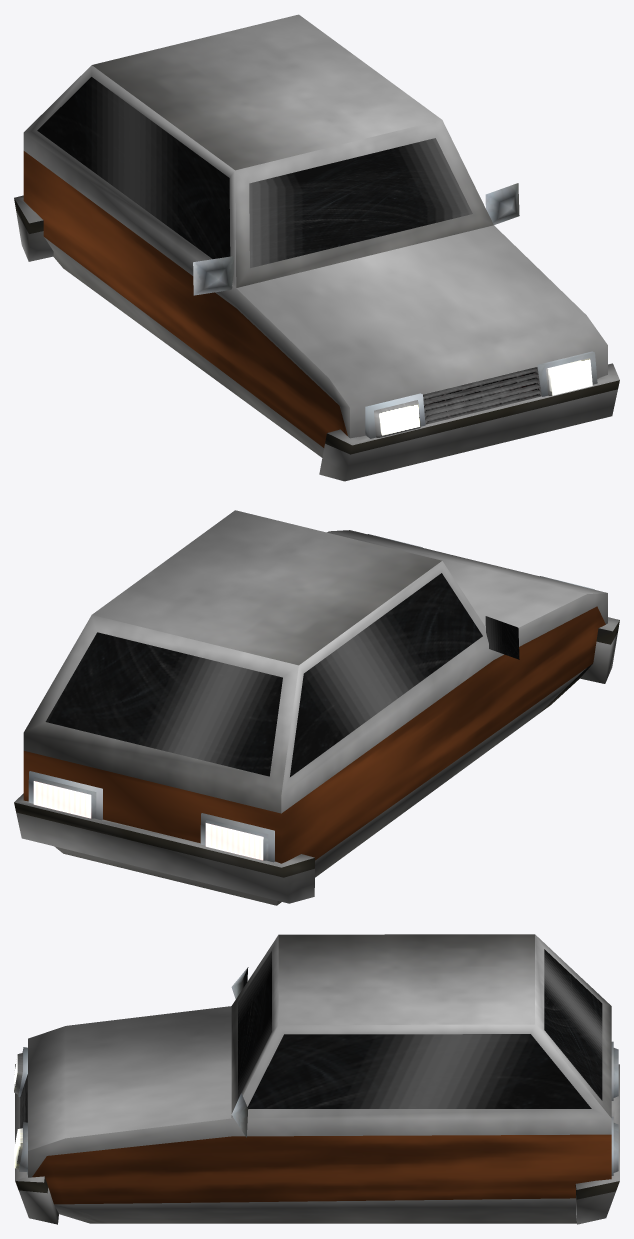
The model's file is EnemyCar_1_v3.fbx.
3 views of the same model, one above another, from view 1: azimuth 30°, elevation 25°; view 2: azimuth 150°, elevation 25°; view 3: azimuth 270°, elevation 25° (orthographic). The views are drawn at different scales.
Parts seen in each view (by area): view 1: StationWagon.001; view 2: StationWagon.001; view 3: StationWagon.001.
Part boxes in pixels (x1,y1,x2,y2): StationWagon.001: [14, 14, 619, 481]; StationWagon.001: [14, 510, 619, 905]; StationWagon.001: [14, 934, 619, 1224].
Size of the model in its own units: 75.86 by 49.18 by 137.
